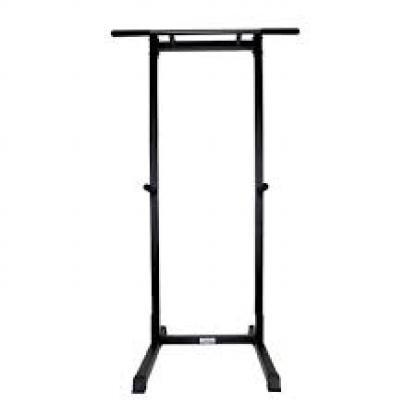chinning dipping: (110, 27, 301, 395)
